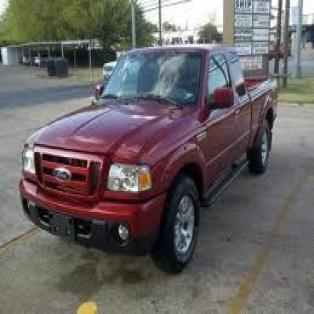Auto: (17, 37, 282, 269)
